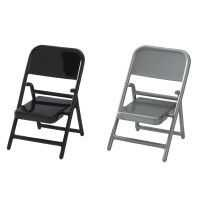obstacle: (107, 46, 190, 160), (7, 45, 84, 158)
